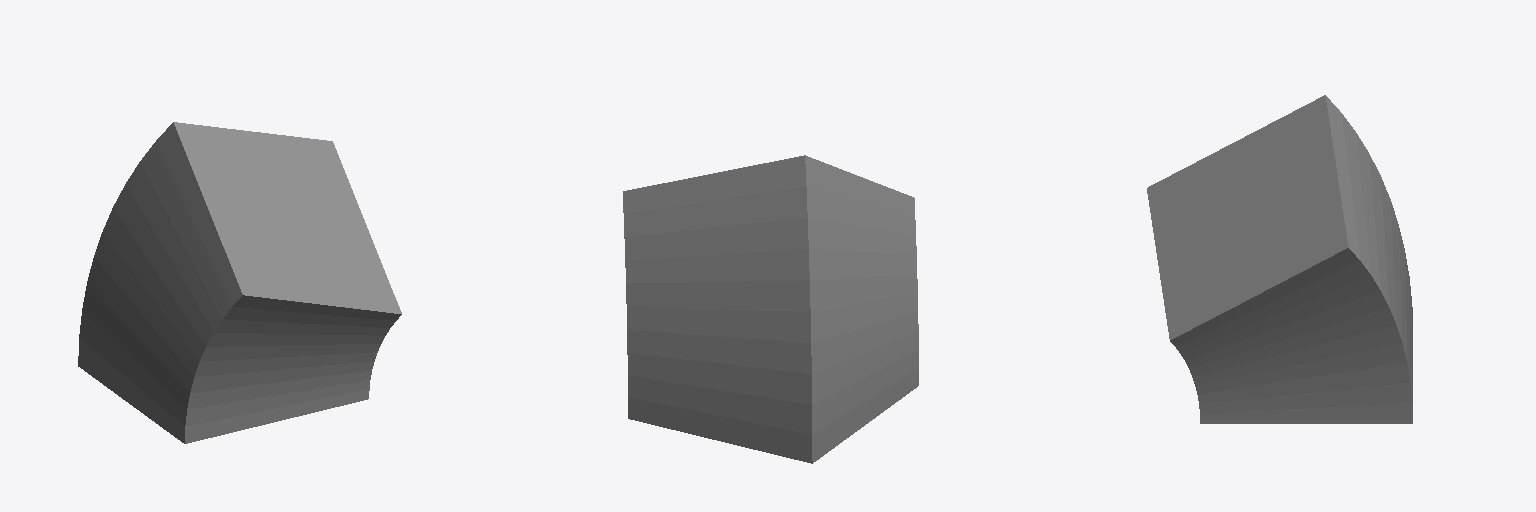
The model's file is bendbox.obj.
The picture shows the model from 3 angles: view 1: azimuth 30°, elevation 25°; view 2: azimuth 150°, elevation 25°; view 3: azimuth 270°, elevation 25°; orthographic projection.
Visible parts, largest first — view 1: Box; view 2: Box; view 3: Box.
Boxes of the visible parts, <box> form: Box: <box>78,122,401,443</box>; Box: <box>623,155,918,463</box>; Box: <box>1147,95,1412,423</box>.
Size of the model in its own units: 54.45 by 61.76 by 56.55.